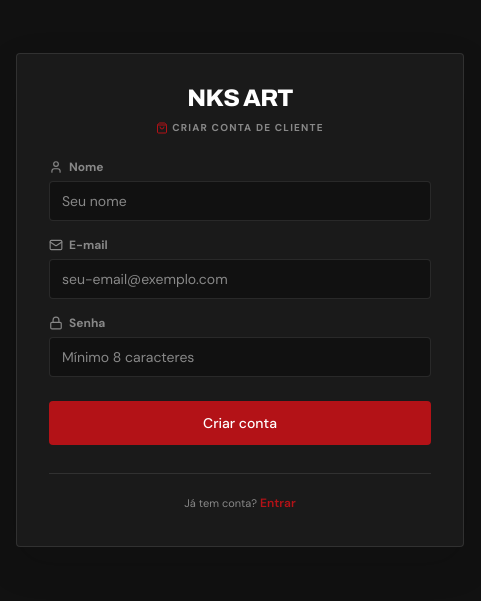
it: CadastroPage — estados do formulário › estado de erro: exibe banner com mensagem do backend
Type "Teste" into the field with placeholder "Seu nome" at (240, 201), box [49,181,431,221]
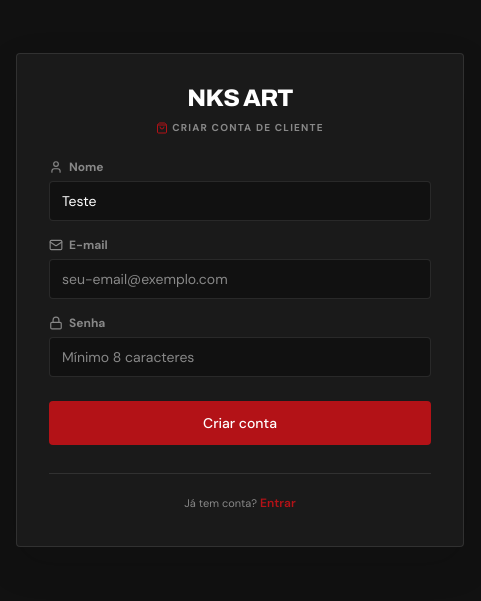
Type "dup@x.com" into the field with placeholder "seu-email@exemplo.com" at (240, 279), box [49,259,431,299]
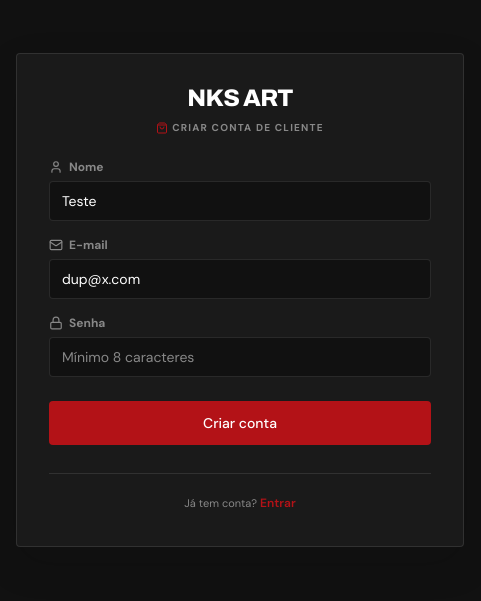
Type "senha123" into the password field with placeholder "Mínimo 8 caracteres" at (240, 357), box [49,337,431,377]
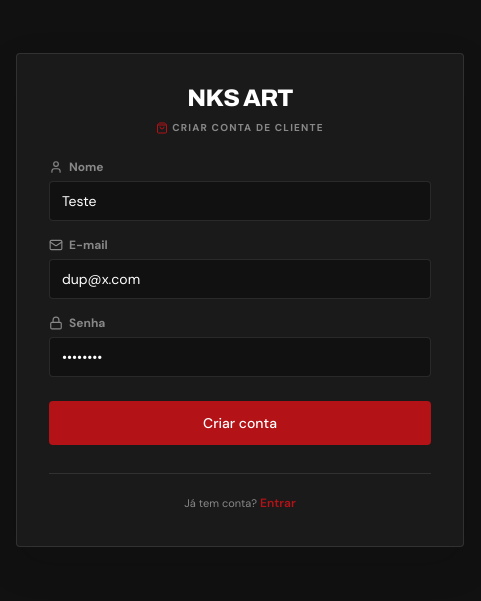
Submit the form from the button "Criar conta", box [49,401,431,445]
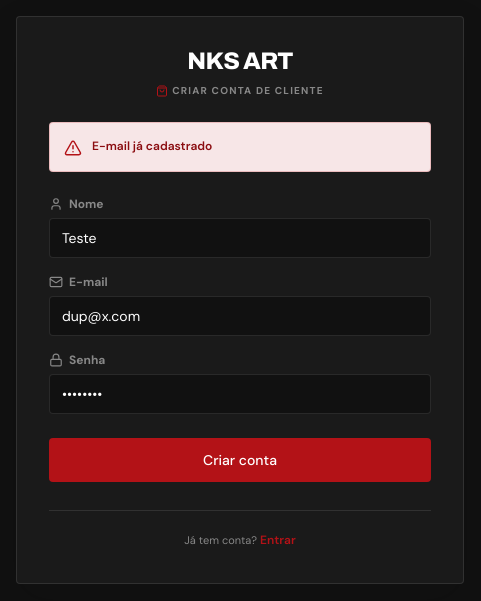
expect the text "E-mail já cadastrado" is shown: met, box [92,137,212,155]
